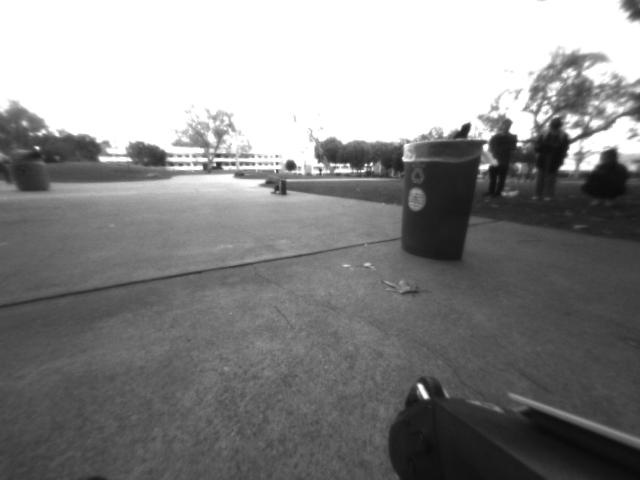trashcan_open: (396, 130, 487, 269)
